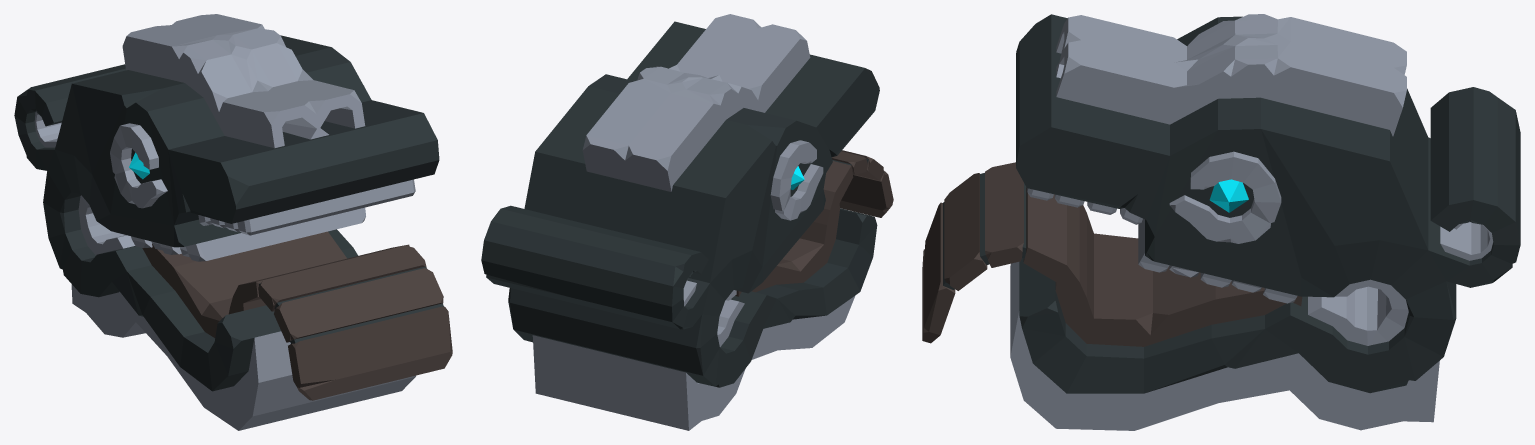
Rendered from Lizard Fountain.fbx.
The picture shows the model from 3 angles, left to right: view 1: azimuth 30°, elevation 25°; view 2: azimuth 150°, elevation 25°; view 3: azimuth 270°, elevation 25°; orthographic projection. The views are drawn at different scales.
Visible parts, largest first — view 1: Lizard Fountain; view 2: Lizard Fountain; view 3: Lizard Fountain.
Part boxes in pixels (box(x1,y1,x2,y2)): Lizard Fountain: box(14, 14, 452, 430); Lizard Fountain: box(481, 14, 893, 430); Lizard Fountain: box(922, 14, 1520, 430).
Size of the model in its own units: 2.41 by 3.04 by 4.72.
